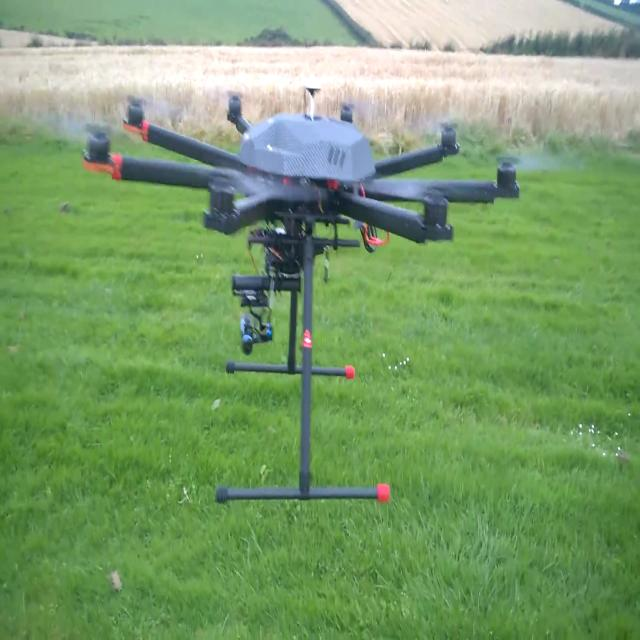drone: (76, 49, 524, 501)
